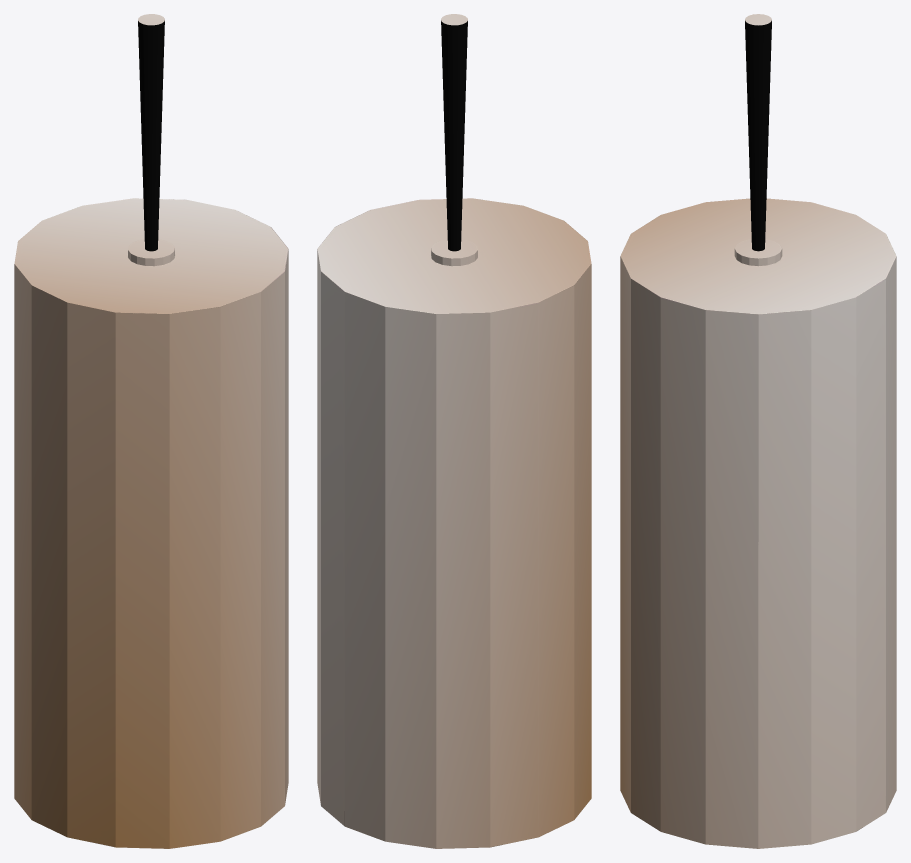
File: candle.fbx
3 views of the same model, side by side, from view 1: azimuth 30°, elevation 25°; view 2: azimuth 150°, elevation 25°; view 3: azimuth 270°, elevation 25° (orthographic).
Parts seen in each view (by area): view 1: candle; view 2: candle; view 3: candle.
Part boxes in pixels (bbox=[...]): candle: bbox=[14, 14, 288, 848]; candle: bbox=[317, 14, 591, 848]; candle: bbox=[620, 14, 896, 848].
Size of the model in its own units: 58.35 by 180 by 58.35.
Materials: 2 (1 with a texture image).
